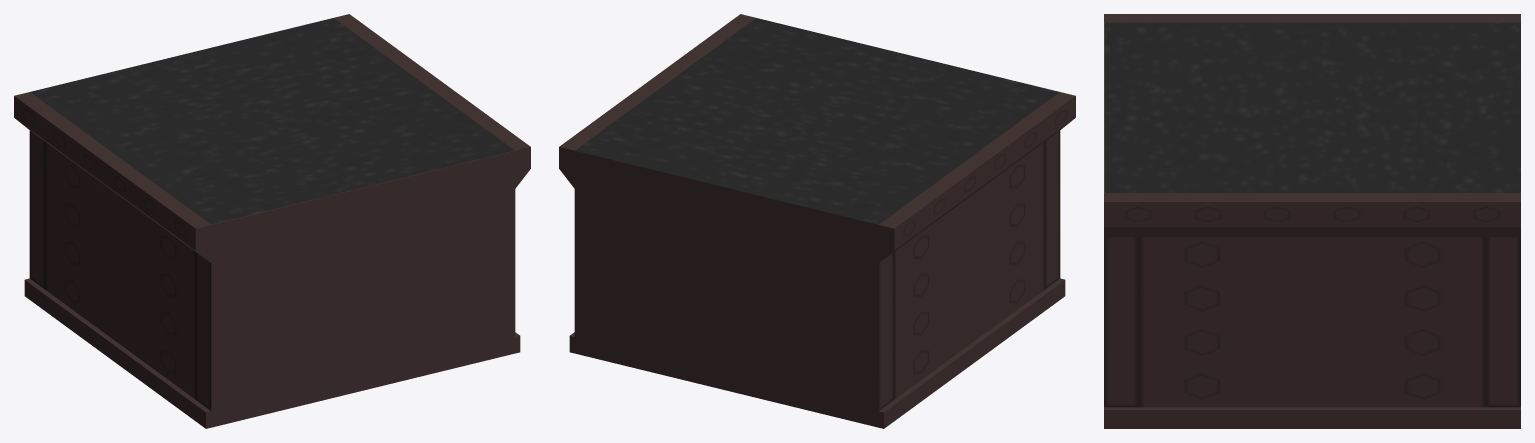
Rendered from SW_ENV_EL_TrackBase_3m.fbx.
3 views of the same model, side by side, from view 1: azimuth 30°, elevation 25°; view 2: azimuth 150°, elevation 25°; view 3: azimuth 270°, elevation 25° (orthographic). The views are drawn at different scales.
Parts seen in each view (by area): view 1: SW_ENV_EL_TrackBase_3m; view 2: SW_ENV_EL_TrackBase_3m; view 3: SW_ENV_EL_TrackBase_3m.
Boxes of the visible parts, bbox=[...] form: SW_ENV_EL_TrackBase_3m: bbox=[14, 14, 530, 428]; SW_ENV_EL_TrackBase_3m: bbox=[559, 14, 1075, 428]; SW_ENV_EL_TrackBase_3m: bbox=[1104, 14, 1520, 428].
Bounding box in the file's own units: 320 × 185 × 300.
